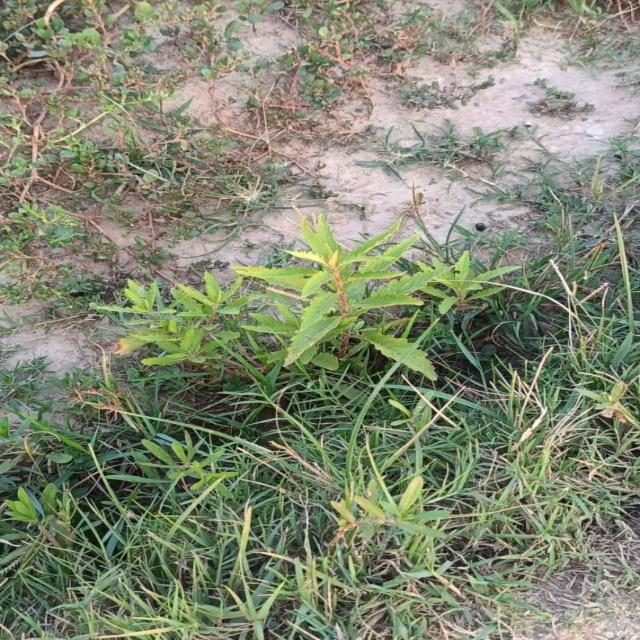weed: (232, 216, 516, 379), (97, 273, 251, 366)
